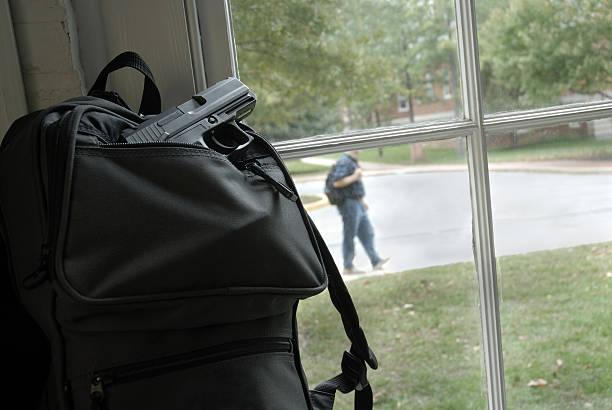weapon: (125, 72, 260, 160)
